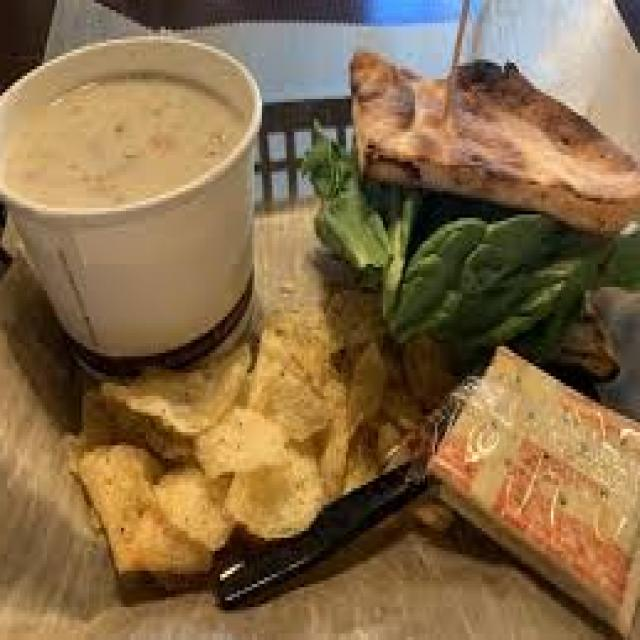Sandwich: (306, 43, 638, 406)
